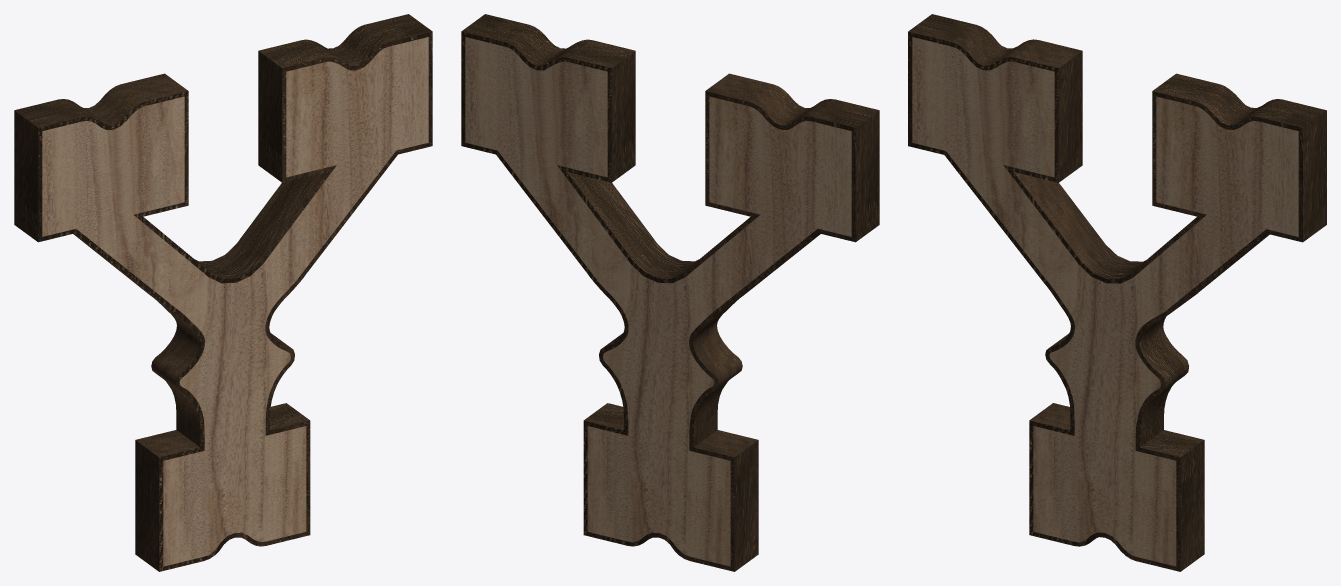
3 renders of one model, left to right at view 1: azimuth 30°, elevation 25°; view 2: azimuth 150°, elevation 25°; view 3: azimuth 330°, elevation 25°, orthographic.
Visible parts, largest first — view 1: Y, Y_outline; view 2: Y, Y_outline; view 3: Y, Y_outline.
Part boxes in pixels (bbox=[...]): Y: bbox=[42, 37, 428, 566]; Y_outline: bbox=[14, 14, 432, 571]; Y: bbox=[465, 37, 851, 566]; Y_outline: bbox=[461, 14, 879, 571]; Y: bbox=[912, 37, 1298, 566]; Y_outline: bbox=[908, 14, 1326, 571].
Size of the model in its own units: 94.85 by 109 by 10.
2 materials, 2 textured.
